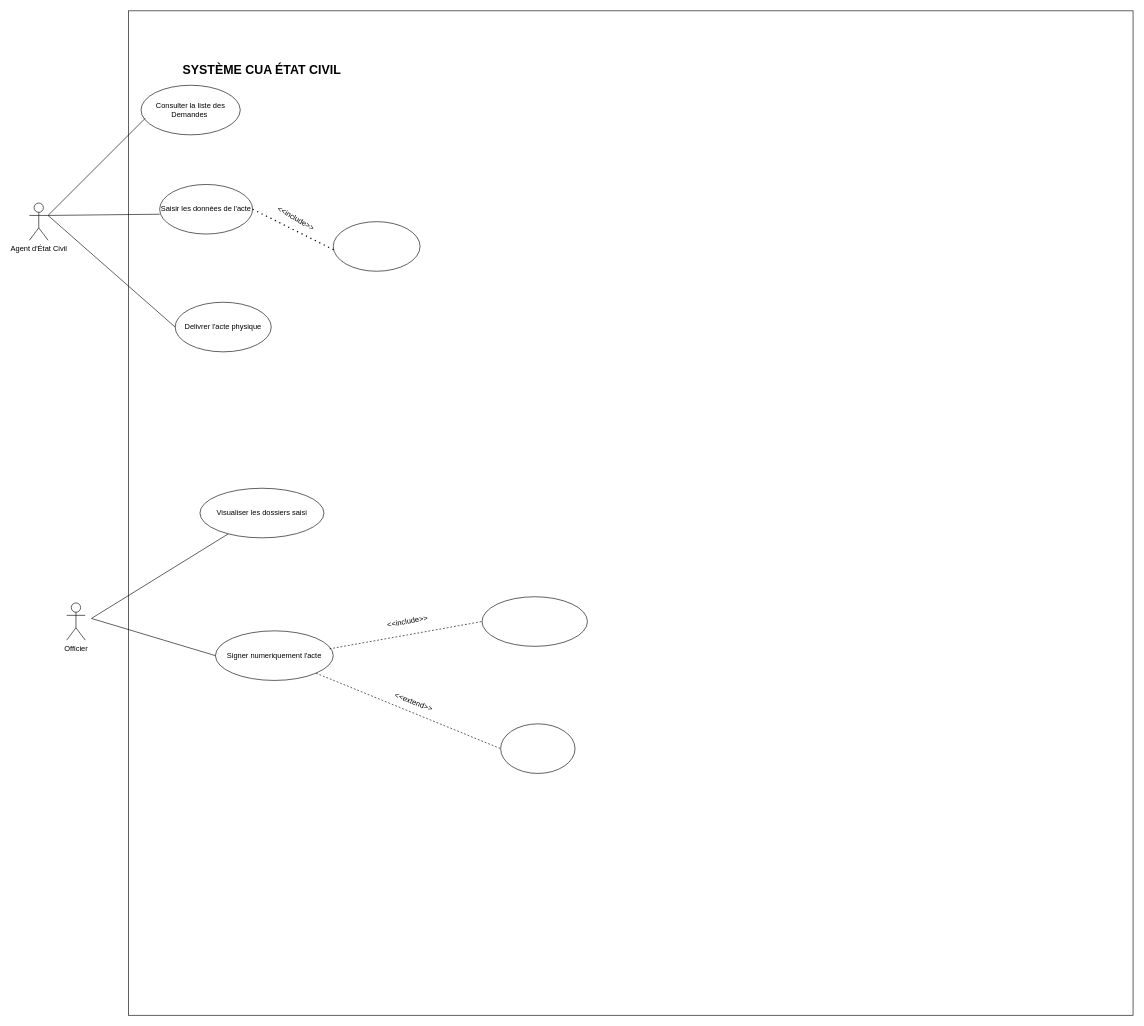
Image size: 1144x1026. Some labels were removed from this diagram. The box of each missing label's shape, as (x1, y1, x2, y2) in pixels:
Generer Hash SHA-256: (481, 596, 587, 646)
Rejeter pour erreur: (500, 723, 575, 773)
Vérifier la conformité: (333, 221, 420, 271)
